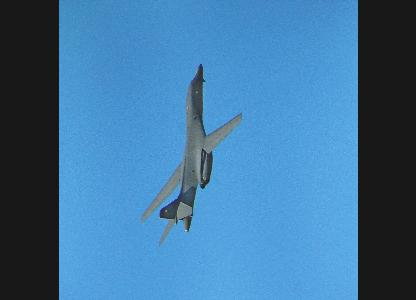AV8B: (139, 64, 241, 247)
